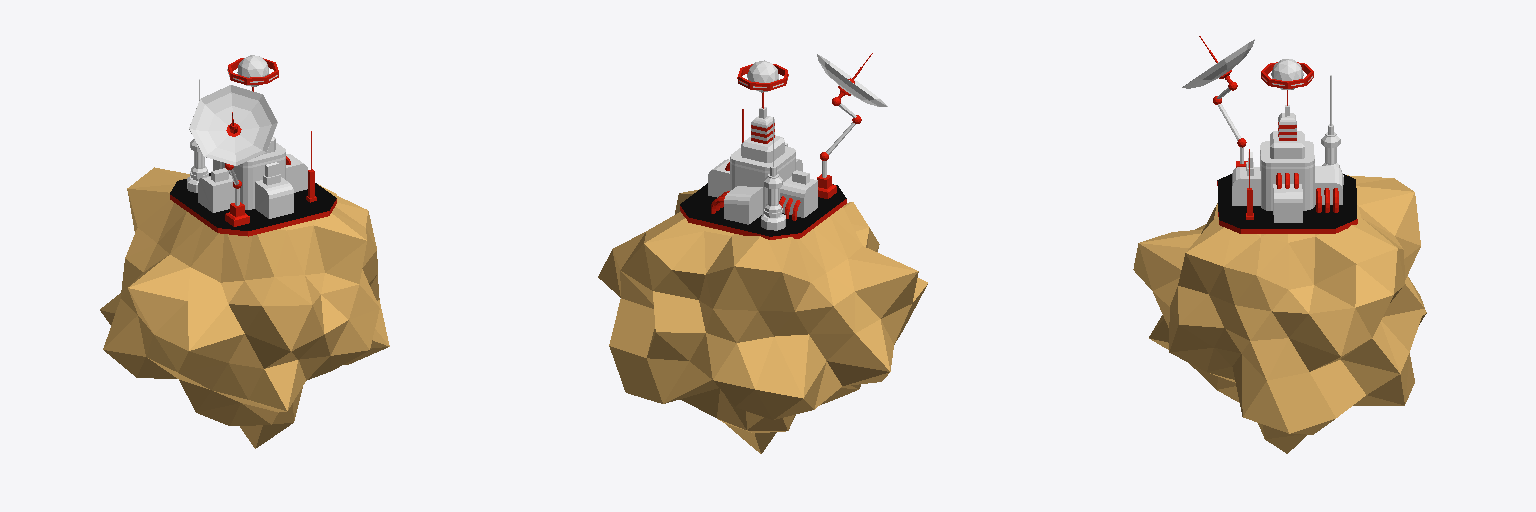
File: SpaceBase.obj
The picture shows the model from 3 angles: view 1: azimuth 30°, elevation 25°; view 2: azimuth 150°, elevation 25°; view 3: azimuth 270°, elevation 25°; orthographic projection.
Visible parts, largest first — view 1: 016_Asteroid_Large, 000_Saucer, 007_Building, 005_Platform, 006_Ring, 012_Ball, 010_Relay, 013_Ring_2; view 2: 016_Asteroid_Large, 007_Building, 005_Platform, 008_Tower, 010_Relay, 000_Saucer, 006_Ring, 012_Ball, 013_Ring_2; view 3: 016_Asteroid_Large, 007_Building, 005_Platform, 008_Tower, 000_Saucer, 006_Ring, 014_Pipes, 012_Ball, 013_Ring_2, 010_Relay.
Boxes of the visible parts, x1=… form: 016_Asteroid_Large: x1=100, y1=167, x2=389, y2=448; 000_Saucer: x1=189, y1=85, x2=277, y2=165; 007_Building: x1=198, y1=143, x2=307, y2=218; 005_Platform: x1=170, y1=173, x2=336, y2=230; 006_Ring: x1=170, y1=195, x2=336, y2=236; 012_Ball: x1=237, y1=55, x2=268, y2=86; 010_Relay: x1=187, y1=79, x2=208, y2=192; 013_Ring_2: x1=228, y1=58, x2=278, y2=84; 016_Asteroid_Large: x1=598, y1=189, x2=927, y2=453; 007_Building: x1=708, y1=144, x2=817, y2=224; 005_Platform: x1=680, y1=183, x2=846, y2=236; 008_Tower: x1=741, y1=107, x2=784, y2=162; 010_Relay: x1=761, y1=117, x2=785, y2=230; 000_Saucer: x1=817, y1=54, x2=887, y2=106; 006_Ring: x1=680, y1=199, x2=846, y2=239; 012_Ball: x1=747, y1=60, x2=778, y2=92; 013_Ring_2: x1=737, y1=64, x2=788, y2=90; 016_Asteroid_Large: x1=1133, y1=175, x2=1426, y2=453; 007_Building: x1=1232, y1=141, x2=1342, y2=222; 005_Platform: x1=1217, y1=174, x2=1356, y2=228; 008_Tower: x1=1270, y1=105, x2=1304, y2=158; 000_Saucer: x1=1182, y1=39, x2=1254, y2=88; 006_Ring: x1=1217, y1=181, x2=1357, y2=233; 014_Pipes: x1=1276, y1=173, x2=1338, y2=212; 012_Ball: x1=1271, y1=59, x2=1303, y2=89; 013_Ring_2: x1=1261, y1=62, x2=1313, y2=88; 010_Relay: x1=1321, y1=75, x2=1343, y2=184.
Size of the model in its own units: 120 by 161 by 109.